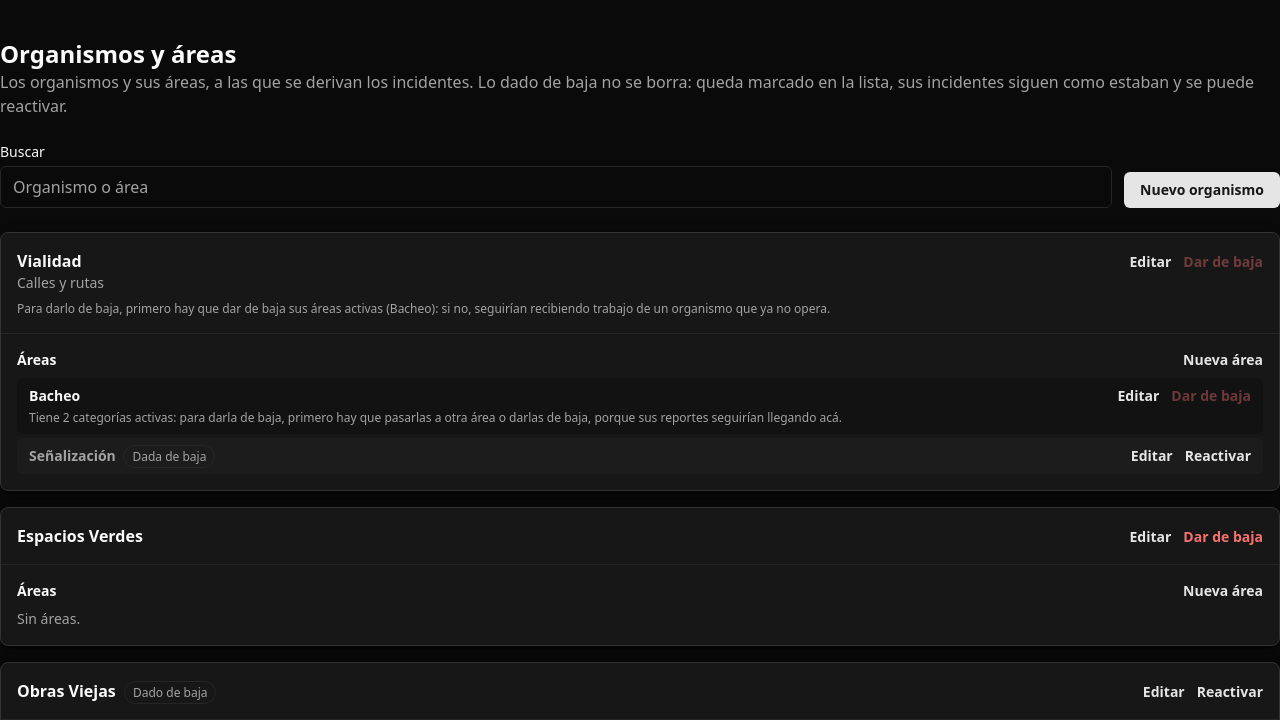
Test case: organismos y áreas (F16) › un nombre repetido queda marcado en el campo, sin perder lo cargado
(page scrolled)
Click the button with aria-label "Nueva área en Vialidad" at {"x": 1223, "y": 360}, box [1183,350,1263,370]
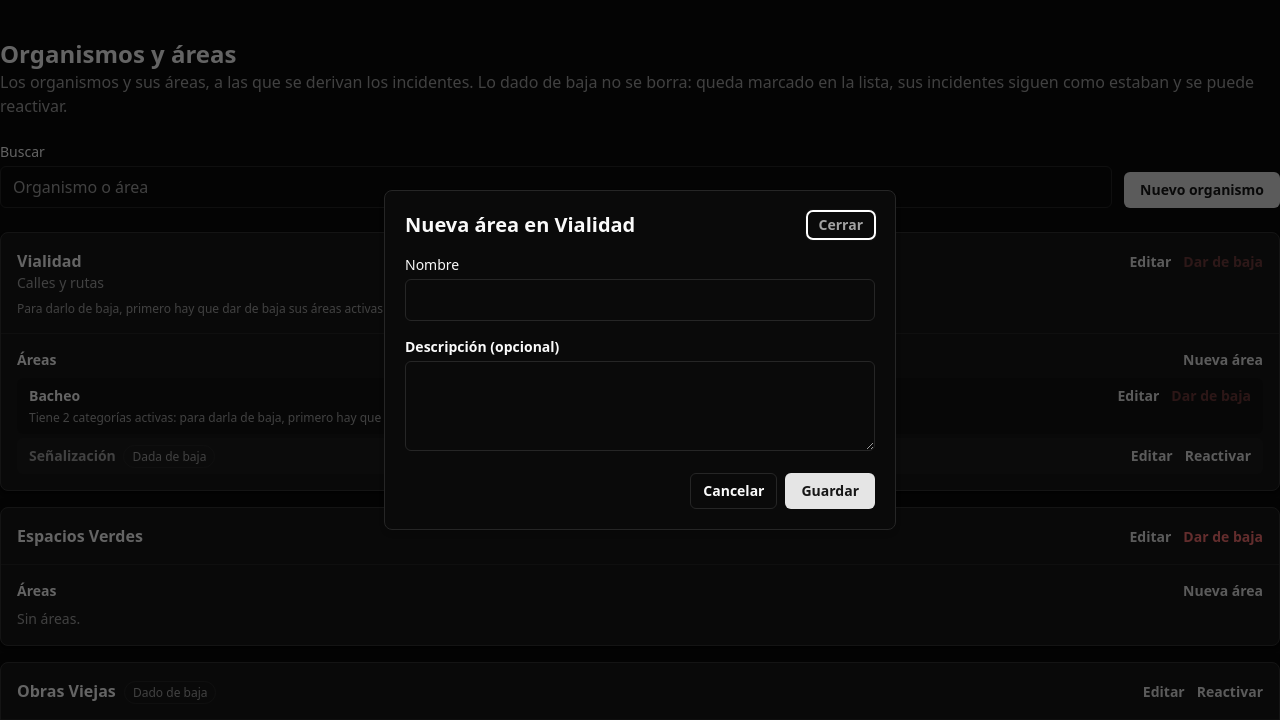
Type "Bacheo" into the field labelled "Nombre" at {"x": 640, "y": 300}, box [405,279,875,321]
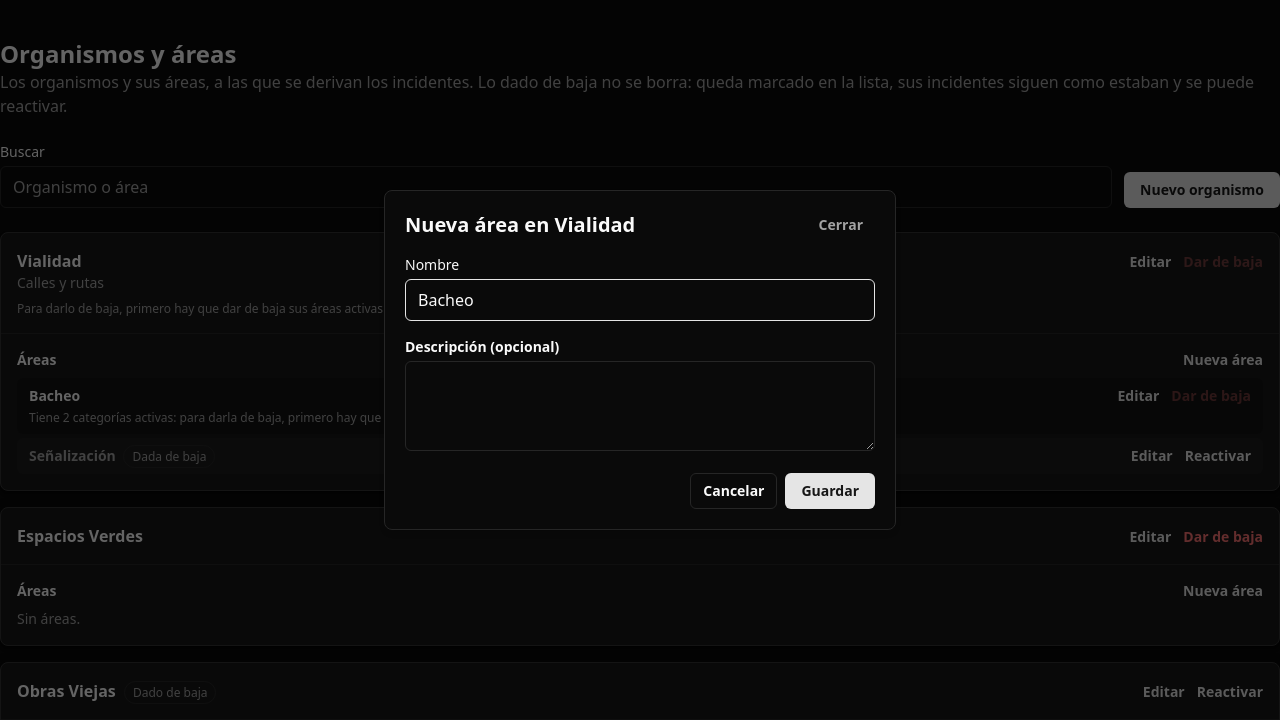
Click the button "Guardar" at {"x": 830, "y": 491}, box [786,473,875,509]
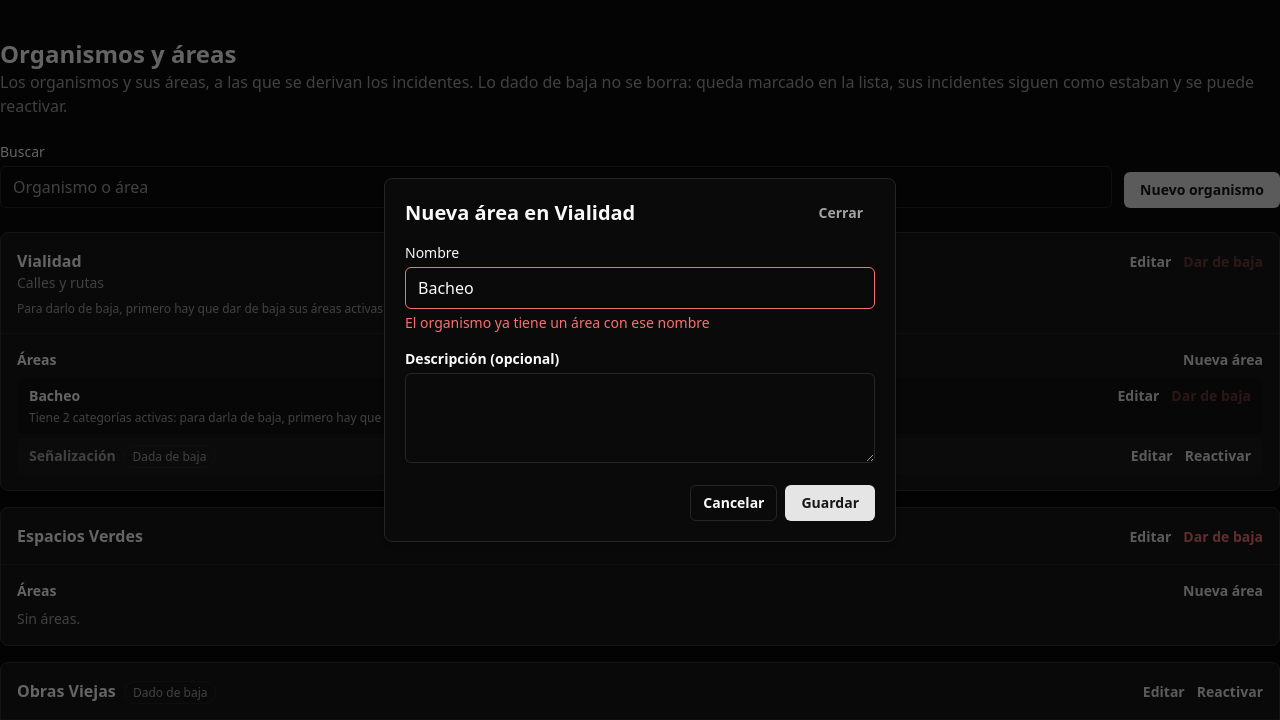
Expected: the text "El organismo ya tiene un área con ese nombre" is shown, [405,313,710,332]
